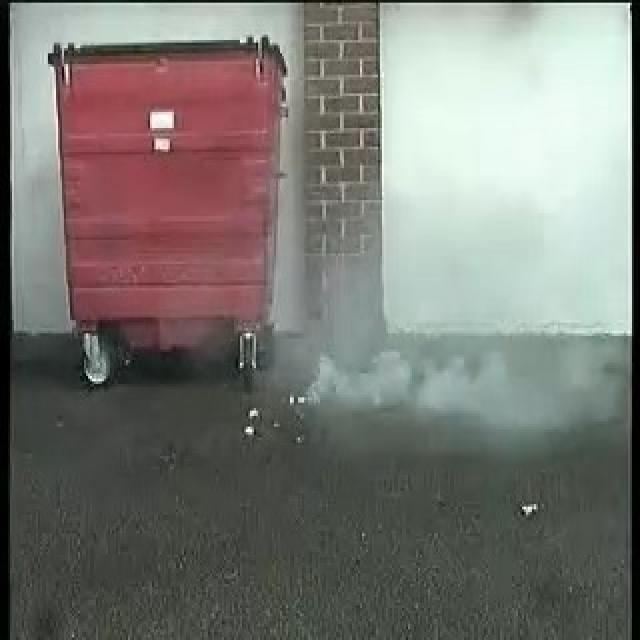smoke: (262, 262, 488, 418)
